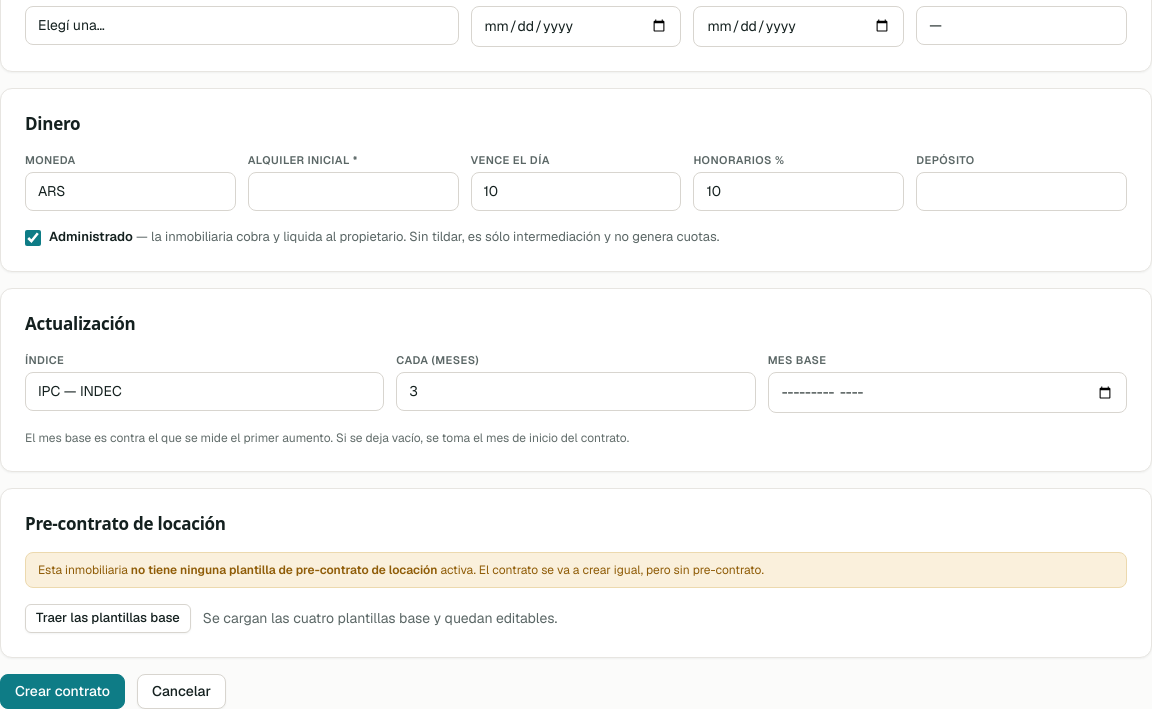
Test case: ContratoFormPage · lo que se dice ANTES de apretar › sin ninguna plantilla lo dice y ofrece traer las base
(page scrolled)
Click the button "Traer las plantillas base".
click(108, 618)  # box [25,604,191,633]
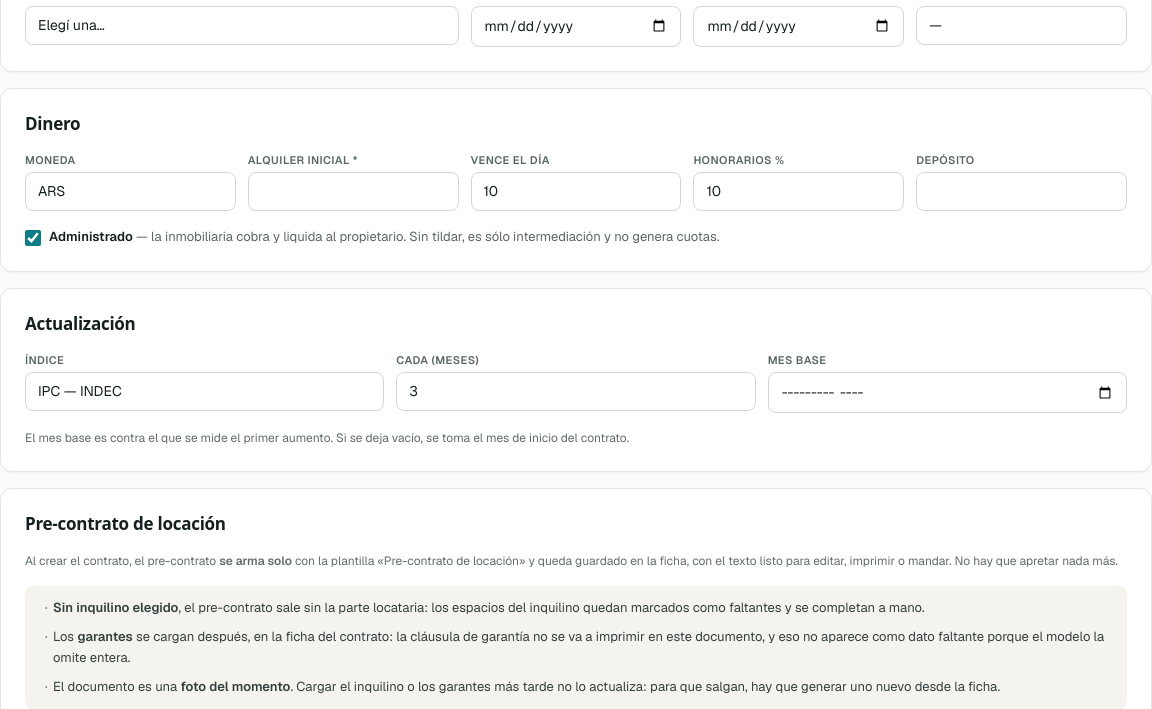
Expected: the text "se arma solo" is shown, [219,553,292,569]
